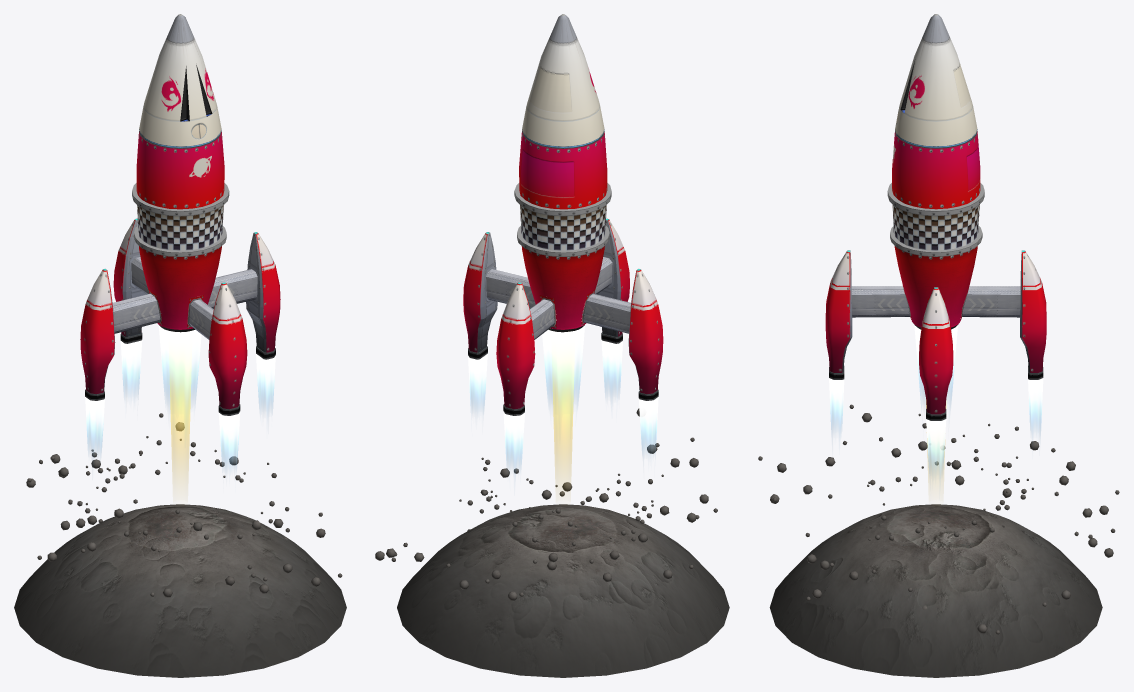
The model's file is rocket.glb.
3 views of the same model, side by side, from view 1: azimuth 30°, elevation 25°; view 2: azimuth 150°, elevation 25°; view 3: azimuth 270°, elevation 25° (orthographic).
Visible parts, largest first — view 1: Moon, Hull, Strut4, Strut1, Strut2, Blast1, Blast2, Asteroids1, Strut3, StrutBlast3, StrutBlast1, StrutBlast4 (+2 smaller); view 2: Moon, Hull, Strut4, Strut3, Strut2, Blast1, Blast2, Asteroids1, Strut1, StrutBlast1, StrutBlast3, StrutBlast4 (+2 smaller); view 3: Moon, Hull, Strut1, Strut3, Strut2, Asteroids1, StrutBlast2, Asteroids, StrutBlast1, StrutBlast3, Blast1.
Part boxes in pixels (bbox=[...]): Moon: bbox=[14, 504, 346, 677]; Hull: bbox=[132, 14, 229, 332]; Strut4: bbox=[80, 268, 162, 400]; Strut1: bbox=[187, 282, 247, 415]; Strut2: bbox=[208, 232, 280, 359]; Blast1: bbox=[158, 325, 201, 412]; Blast2: bbox=[169, 332, 191, 481]; Asteroids1: bbox=[26, 413, 342, 597]; Strut3: bbox=[113, 218, 149, 343]; StrutBlast3: bbox=[120, 340, 142, 397]; StrutBlast1: bbox=[218, 411, 240, 470]; StrutBlast4: bbox=[85, 397, 104, 457]; Moon: bbox=[397, 504, 729, 677]; Hull: bbox=[514, 14, 611, 332]; Strut4: bbox=[581, 268, 663, 400]; Strut3: bbox=[496, 282, 556, 415]; Strut2: bbox=[463, 232, 535, 359]; Blast1: bbox=[542, 318, 584, 409]; Blast2: bbox=[552, 314, 574, 481]; Asteroids1: bbox=[375, 408, 717, 600]; Strut1: bbox=[594, 218, 629, 343]; StrutBlast1: bbox=[601, 339, 622, 400]; StrutBlast3: bbox=[503, 411, 524, 474]; StrutBlast4: bbox=[638, 397, 658, 455]; Moon: bbox=[769, 504, 1102, 677]; Hull: bbox=[887, 14, 984, 329]; Strut1: bbox=[825, 250, 911, 379]; Strut3: bbox=[960, 250, 1046, 379]; Strut2: bbox=[919, 287, 953, 420]; Asteroids1: bbox=[758, 404, 1119, 634]; StrutBlast2: bbox=[926, 419, 946, 478]; Asteroids: bbox=[867, 413, 1033, 540]; StrutBlast1: bbox=[829, 378, 844, 436]; StrutBlast3: bbox=[1028, 378, 1043, 436]; Blast1: bbox=[914, 325, 957, 406].
Bounding box in the file's own units: 788 × 1550 × 855.
4 materials, 4 textured.
